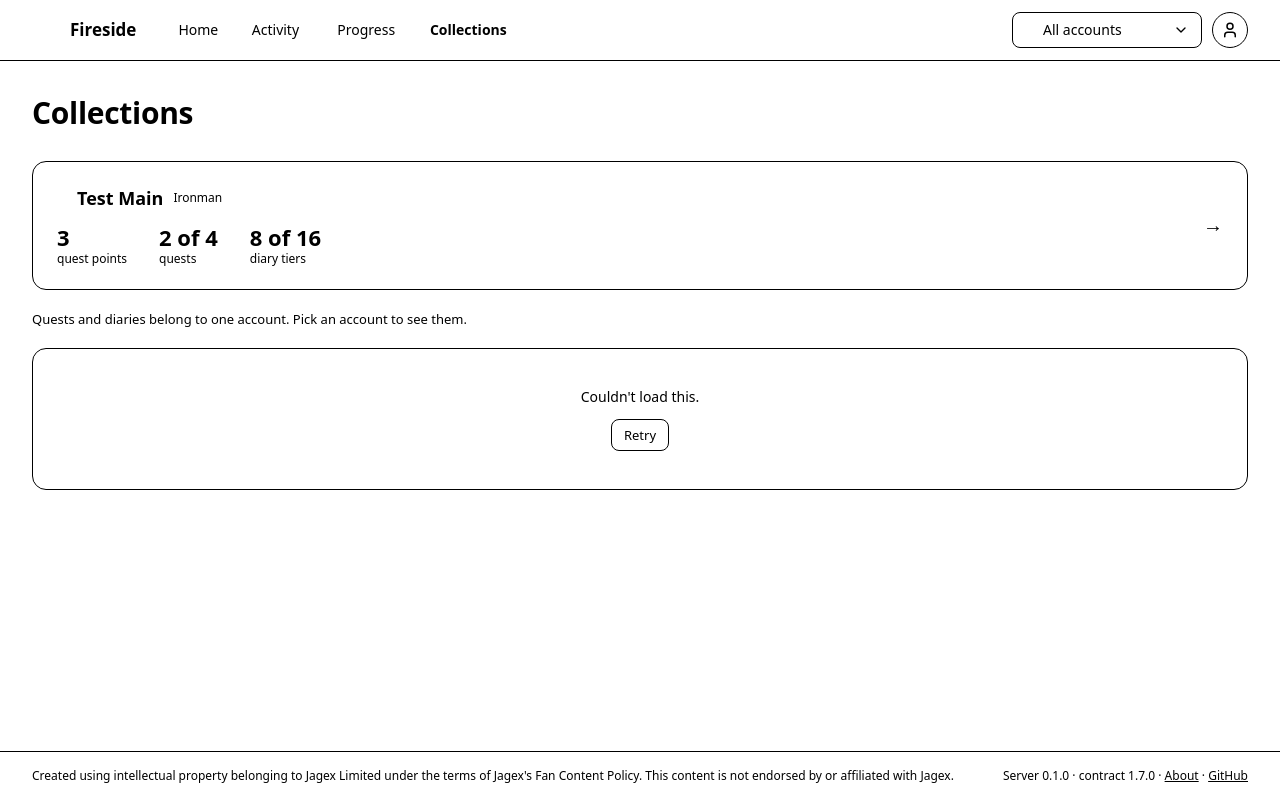
Test case: Quests & diaries › keeps the cards of the accounts that loaded when another account fails
Click the button "Retry" at (640, 435), box [611,419,669,451]
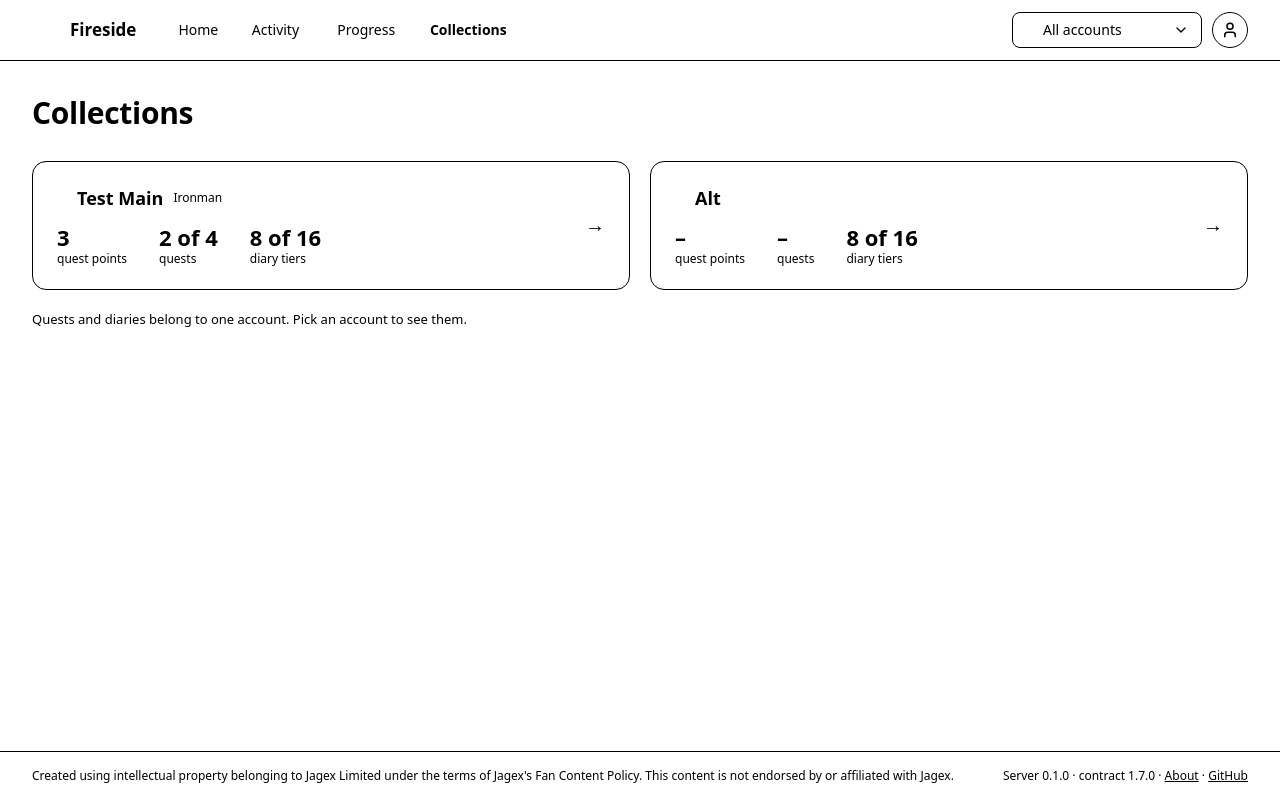
Result: the button "Retry" is gone
